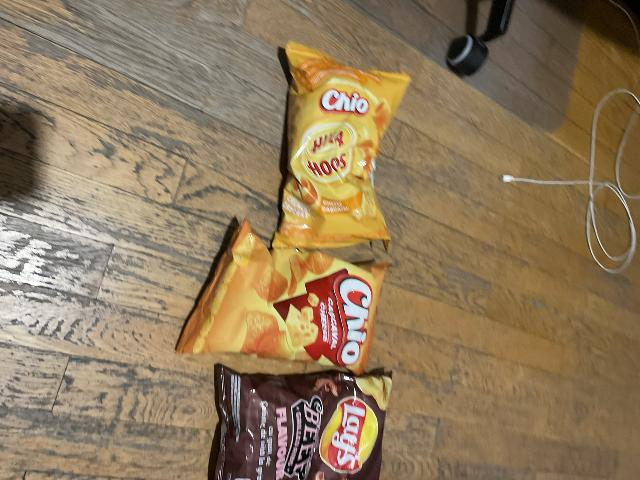Chio Cascaval 125g: (179, 218, 389, 369)
Chio Hula Hoops Cheese 70g: (275, 43, 409, 251)
Lays Beef Grilled Ribs 125g: (210, 365, 389, 480)
